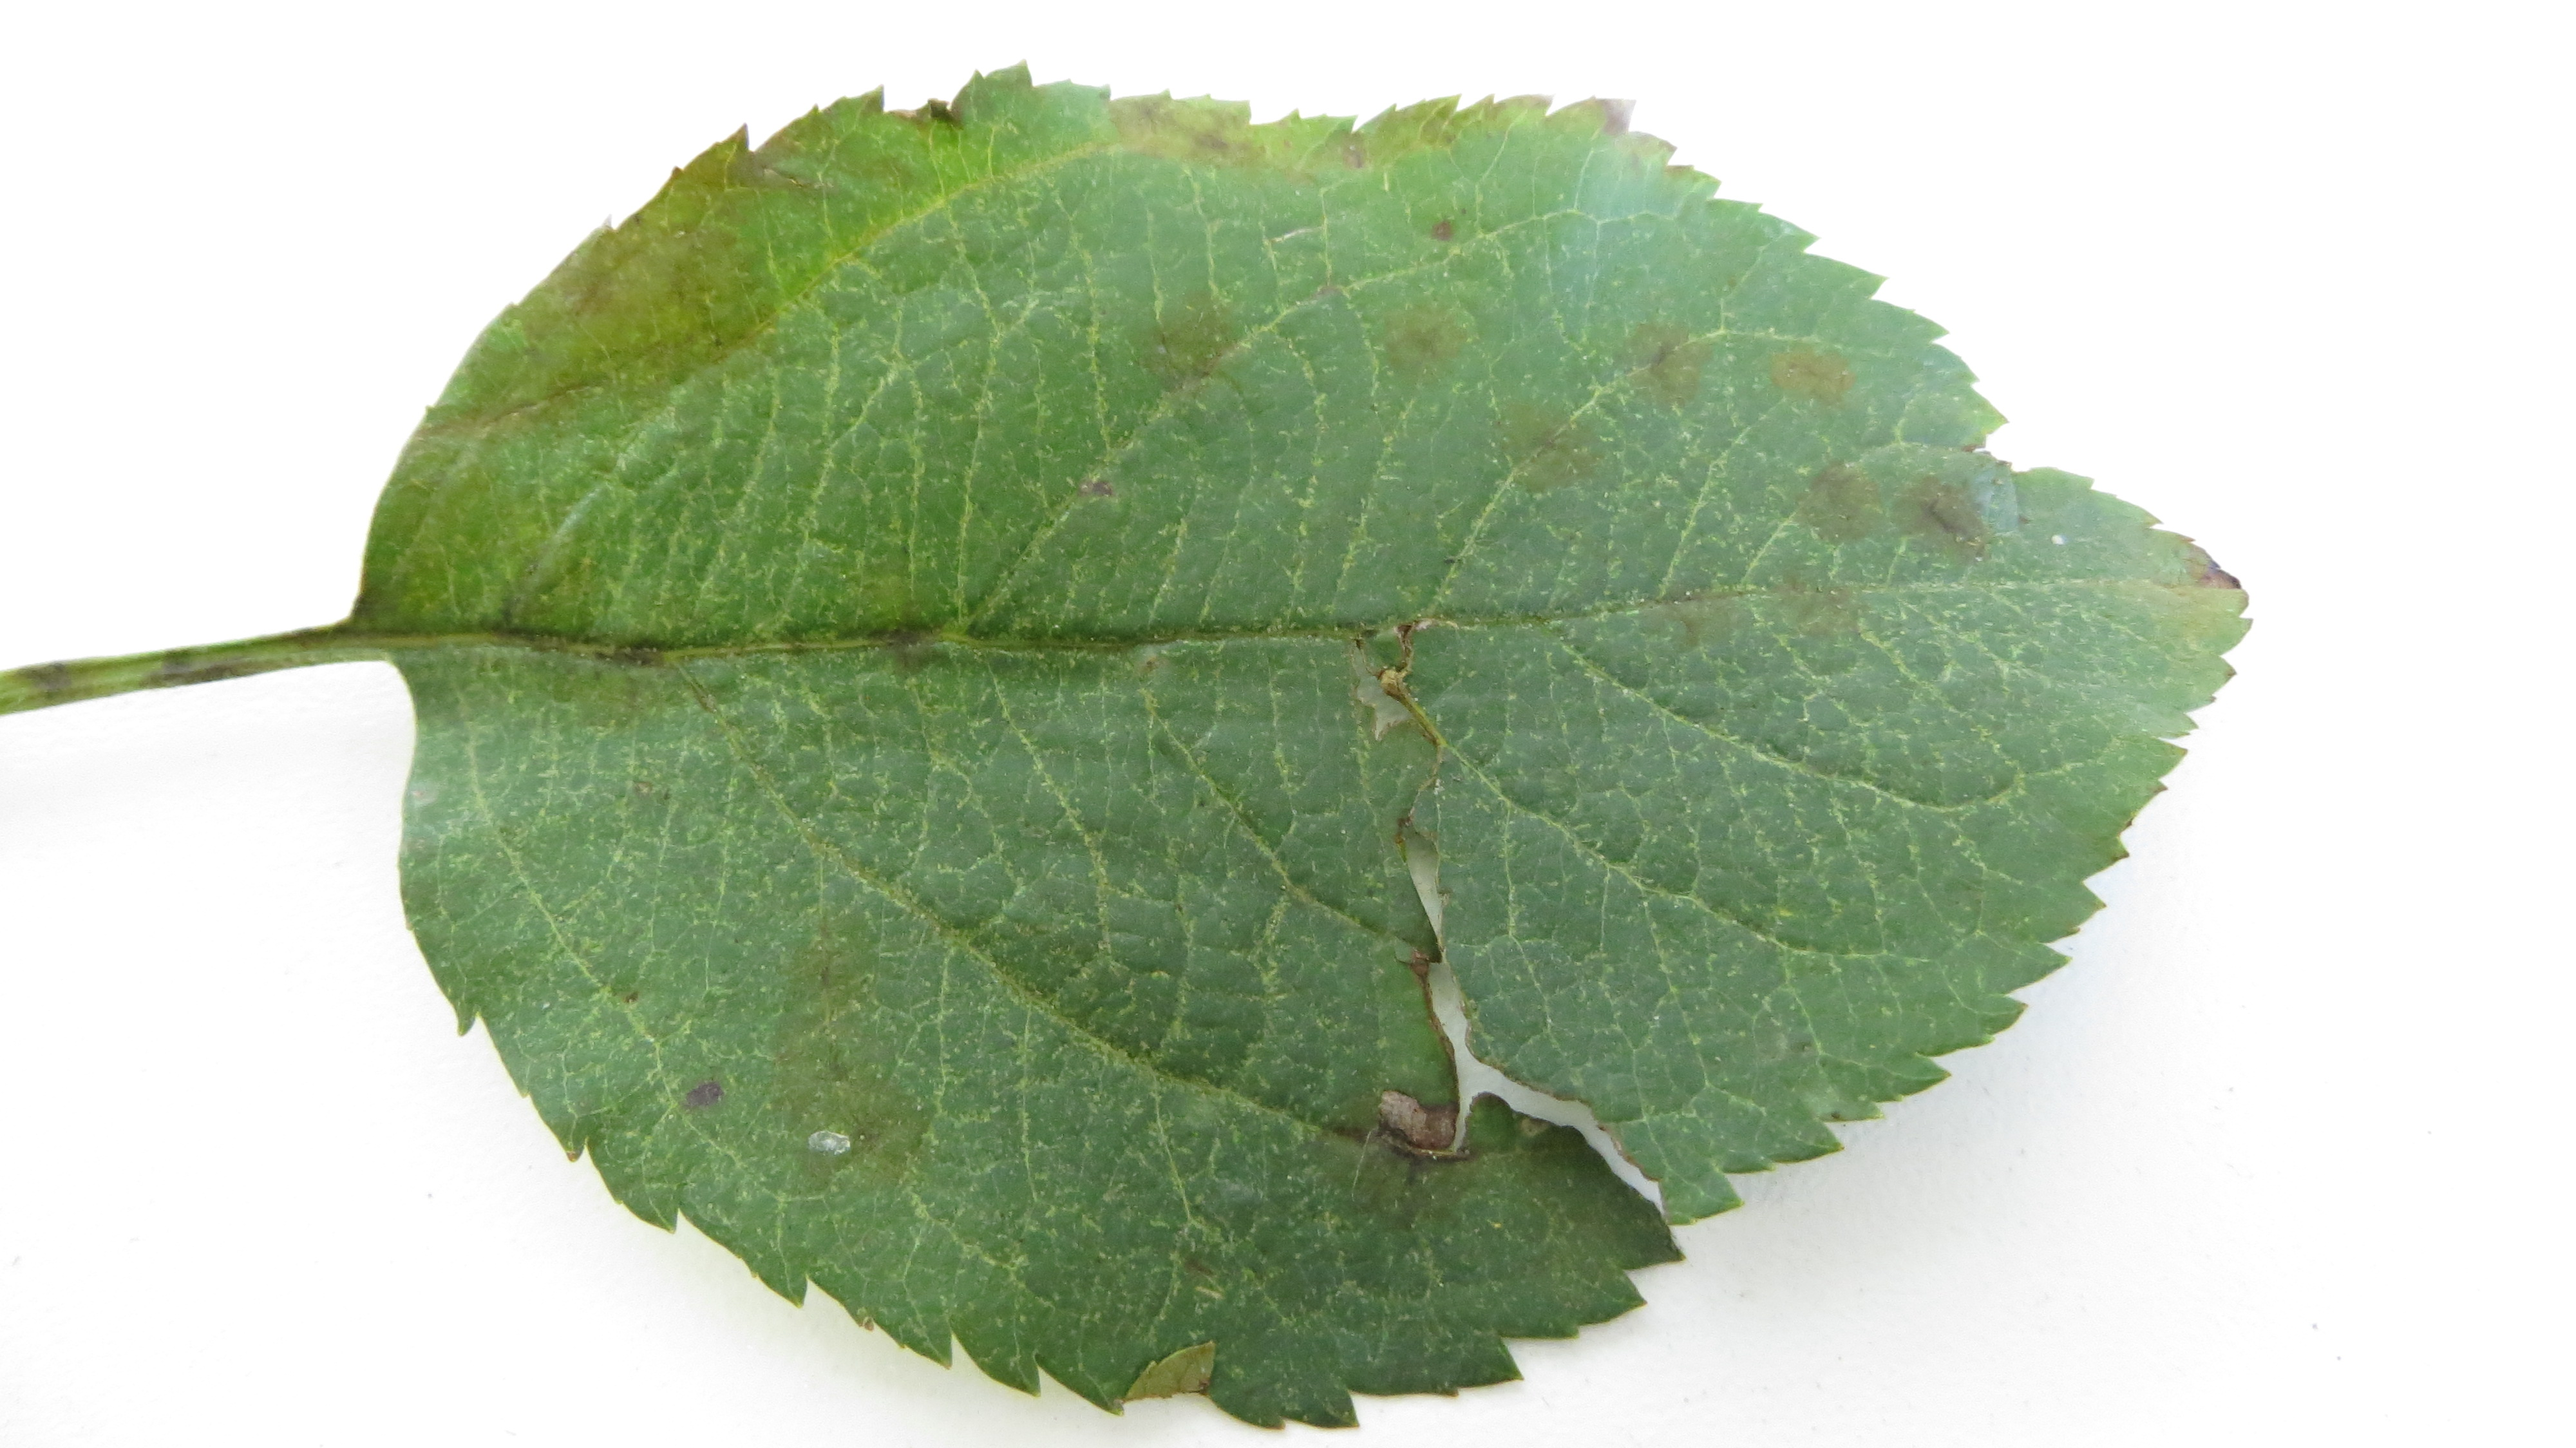sarna: (778, 929, 927, 1182), (665, 124, 786, 372), (495, 306, 663, 439), (1318, 1101, 1463, 1243), (1113, 94, 1274, 195), (1132, 281, 1254, 402), (1488, 388, 1612, 499), (533, 211, 667, 306), (789, 106, 918, 204), (1895, 464, 1996, 574), (1759, 547, 1867, 648), (579, 598, 685, 699), (1376, 283, 1474, 393), (1272, 104, 1392, 193), (1398, 85, 1518, 170), (1615, 315, 1711, 421), (1637, 565, 1750, 648), (872, 586, 954, 699), (1790, 448, 1877, 543), (2158, 536, 2258, 616), (414, 375, 499, 466), (1757, 335, 1858, 409), (1578, 83, 1658, 156), (665, 1057, 740, 1126), (909, 78, 984, 145)
